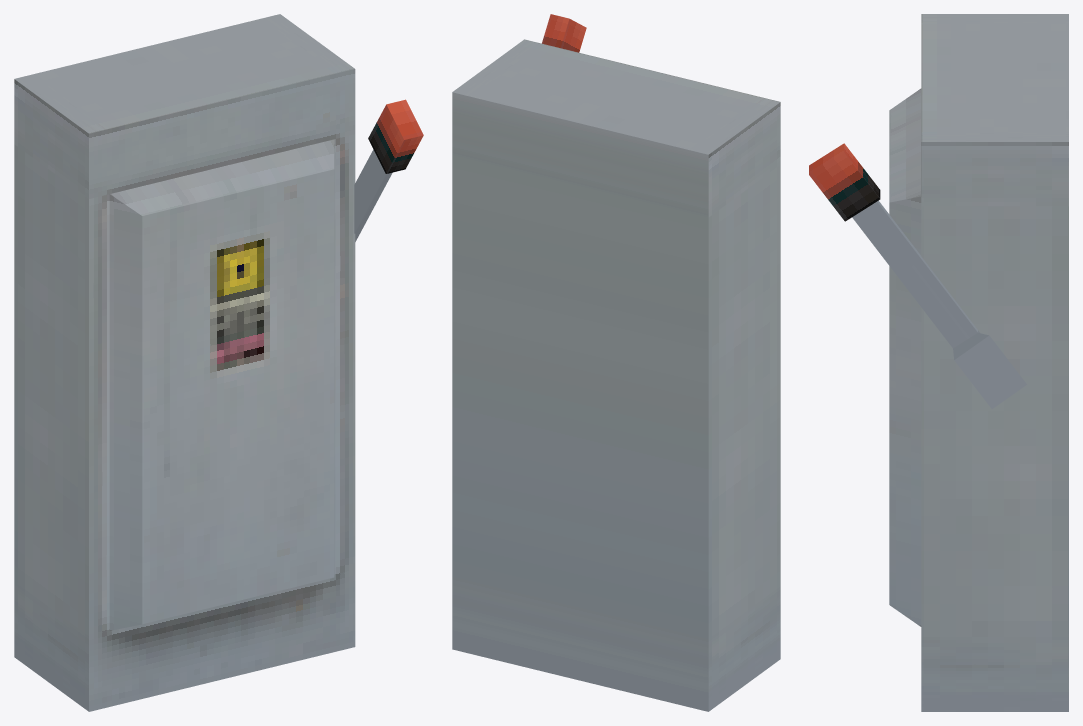
The model's file is panel_electric.glb.
3 views of the same model, side by side, from view 1: azimuth 30°, elevation 25°; view 2: azimuth 150°, elevation 25°; view 3: azimuth 270°, elevation 25° (orthographic). The views are drawn at different scales.
Parts seen in each view (by area): view 1: panel_electric, panel_electric_handle; view 2: panel_electric, panel_electric_handle; view 3: panel_electric, panel_electric_handle.
Part boxes in pixels (<box>): panel_electric: <box>14,14,355,711</box>; panel_electric_handle: <box>354,99,423,241</box>; panel_electric: <box>452,39,780,711</box>; panel_electric_handle: <box>542,14,586,52</box>; panel_electric: <box>889,14,1068,711</box>; panel_electric_handle: <box>809,143,1026,408</box>.
Bounding box in the file's own units: 0.4292 × 0.8534 × 0.3527.
1 material, 1 textured.
